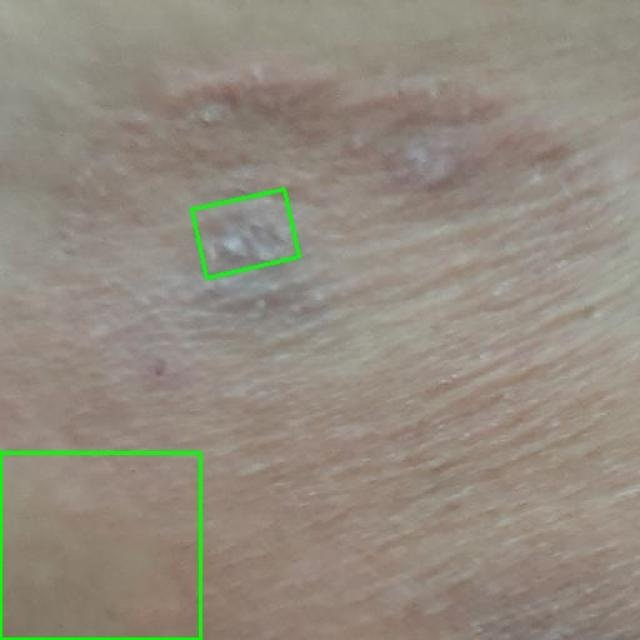Tinea Corporis: (0, 452, 200, 639), (192, 189, 300, 278)
